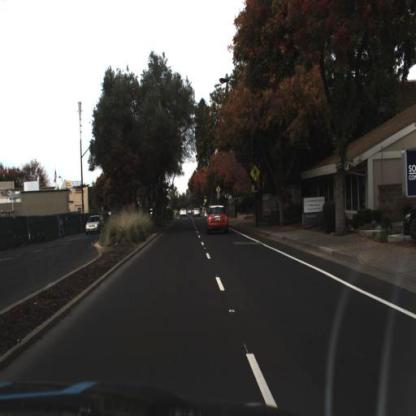car: (204, 205, 233, 233), (83, 212, 107, 240)
